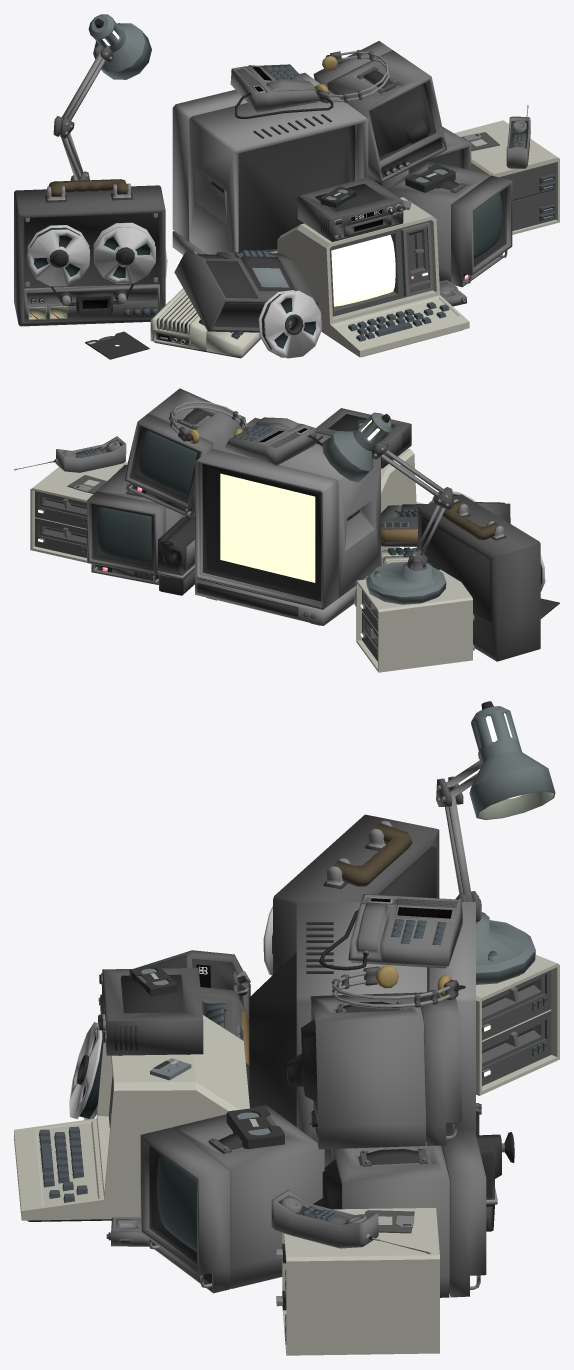
The model's file is 80sTech.glb.
3 renders of one model, top to bottom at view 1: azimuth 30°, elevation 25°; view 2: azimuth 150°, elevation 25°; view 3: azimuth 270°, elevation 25°, orthographic. The views are drawn at different scales.
Parts seen in each view (by area): view 1: Scene, PC_SCREEN; view 2: Scene, TV_SCREEN; view 3: Scene.
Boxes of the visible parts, x1=… form: Scene: x1=14, y1=14, x2=559, y2=359; PC_SCREEN: x1=331, y1=235, x2=395, y2=306; Scene: x1=14, y1=388, x2=559, y2=672; TV_SCREEN: x1=220, y1=473, x2=315, y2=582; Scene: x1=14, y1=701, x2=559, y2=1355.
Size of what is drawn, in the model's own units: 15.44 by 7.02 by 9.27.
